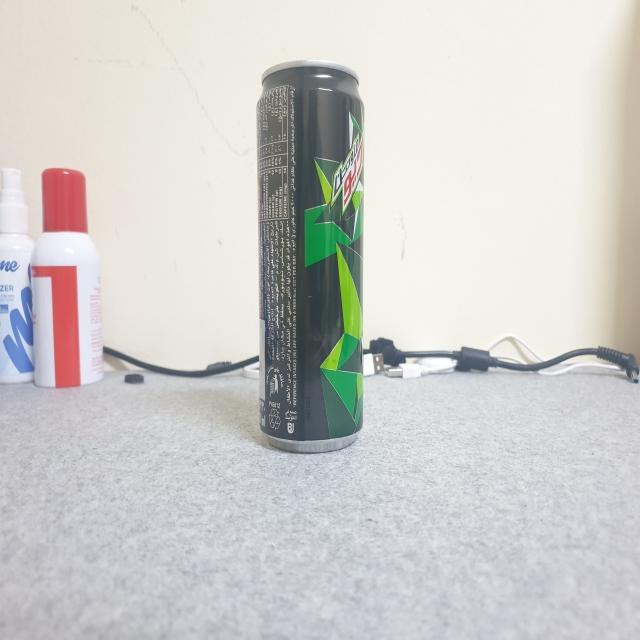non-organic waste: (250, 47, 378, 459)
